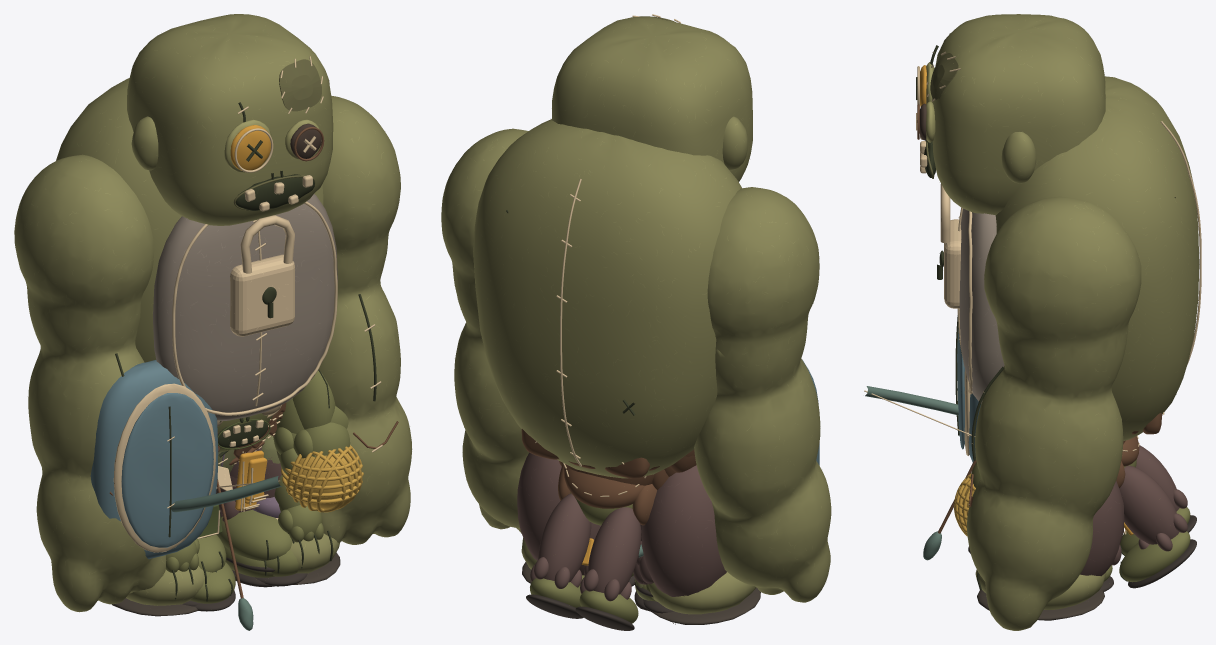
Rendered from zombie-roster.glb.
The picture shows the model from 3 angles, left to right: view 1: azimuth 30°, elevation 25°; view 2: azimuth 150°, elevation 25°; view 3: azimuth 270°, elevation 25°; orthographic projection. The views are drawn at different scales.
Parts seen in each view (by area): view 1: boss-warden / continuous stuffed ArmL, boss-warden / sculpted head, boss-warden / continuous stuffed ArmR, boss-warden / grave cloth belly, shielded / shield face, boss-warden / massive low trapezoid torso, shielded / felt shield, boss-warden / cloth lock, archer / Mesh / LegR, archer / Mesh / ArmR, shielded / shield padded rim, leaper / Mesh / LegL (+19 smaller); view 2: boss-warden / massive low trapezoid torso, boss-warden / continuous stuffed ArmL, boss-warden / sculpted head, boss-warden / continuous stuffed ArmR, boss-warden / cloth leg, crawler / Mesh / LegL, crawler / Mesh / LegR, crawler / Mesh / Body, boss-warden / cloth leg.001, boss-warden / felt foot, boss-warden / dark cloth sole, boss-warden / sewn ear (+4 smaller); view 3: boss-warden / continuous stuffed ArmR, boss-warden / massive low trapezoid torso, boss-warden / sculpted head, crawler / Mesh / LegR, boss-warden / grave cloth belly, boss-warden / cloth leg.001, crawler / Mesh / LegL, boss-warden / sewn ear.001, boss-warden / cloth lock, boss-warden / felt foot.001, archer / soft bow arc, boss-warden / dark cloth sole.001 (+6 smaller).
Part boxes in pixels (bbox=[...]): boss-warden / continuous stuffed ArmL: bbox=[14, 154, 166, 612]; boss-warden / sculpted head: bbox=[127, 14, 333, 225]; boss-warden / continuous stuffed ArmR: bbox=[273, 96, 412, 544]; boss-warden / grave cloth belly: bbox=[153, 194, 337, 420]; shielded / shield face: bbox=[121, 393, 213, 547]; boss-warden / massive low trapezoid torso: bbox=[56, 78, 323, 362]; shielded / felt shield: bbox=[90, 360, 218, 559]; boss-warden / cloth lock: bbox=[230, 254, 294, 336]; archer / Mesh / LegR: bbox=[216, 448, 294, 571]; archer / Mesh / ArmR: bbox=[292, 369, 350, 458]; shielded / shield padded rim: bbox=[113, 383, 215, 552]; leaper / Mesh / LegL: bbox=[190, 504, 235, 611]; boss-warden / massive low trapezoid torso: bbox=[473, 119, 741, 478]; boss-warden / continuous stuffed ArmL: bbox=[694, 187, 831, 602]; boss-warden / sculpted head: bbox=[552, 17, 752, 181]; boss-warden / continuous stuffed ArmR: bbox=[441, 128, 528, 533]; boss-warden / cloth leg: bbox=[641, 465, 726, 596]; crawler / Mesh / LegL: bbox=[575, 507, 641, 630]; crawler / Mesh / LegR: bbox=[526, 493, 594, 618]; crawler / Mesh / Body: bbox=[558, 464, 656, 525]; boss-warden / cloth leg.001: bbox=[517, 452, 561, 560]; boss-warden / felt foot: bbox=[648, 572, 756, 614]; boss-warden / dark cloth sole: bbox=[650, 587, 760, 624]; boss-warden / sewn ear: bbox=[722, 116, 747, 170]; boss-warden / continuous stuffed ArmR: bbox=[967, 196, 1141, 630]; boss-warden / massive low trapezoid torso: bbox=[995, 76, 1199, 440]; boss-warden / sculpted head: bbox=[932, 14, 1105, 215]; crawler / Mesh / LegR: bbox=[1119, 465, 1196, 588]; boss-warden / grave cloth belly: bbox=[959, 208, 1004, 403]; boss-warden / cloth leg.001: bbox=[1080, 481, 1124, 576]; crawler / Mesh / LegL: bbox=[1120, 445, 1196, 555]; boss-warden / sewn ear.001: bbox=[1001, 132, 1036, 183]; boss-warden / cloth lock: bbox=[944, 219, 961, 308]; boss-warden / felt foot.001: bbox=[975, 570, 1106, 609]; archer / soft bow arc: bbox=[865, 386, 958, 415]; boss-warden / dark cloth sole.001: bbox=[977, 590, 1104, 620].
Size of the model in its own units: 1.91 by 2.8 by 1.6.
